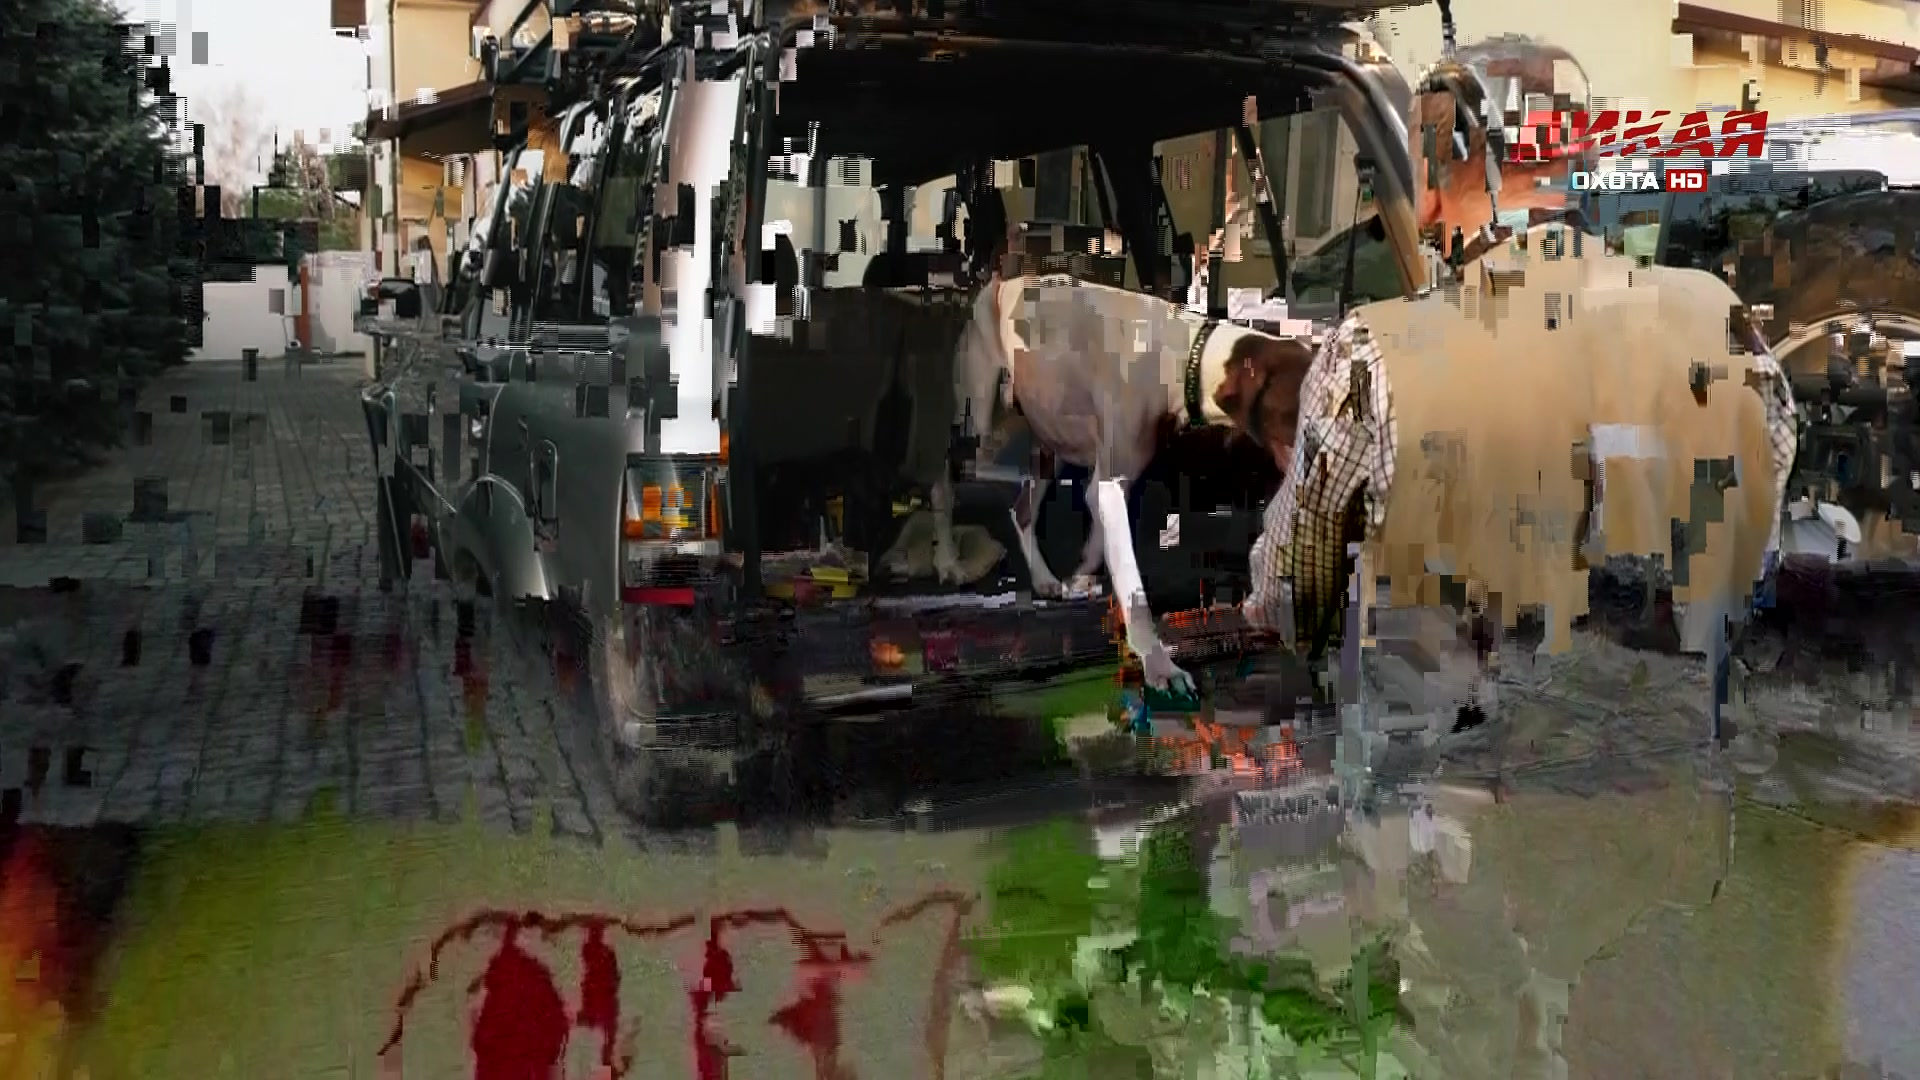Dikaya_Ohota_HD: (1502, 105, 1774, 196)
